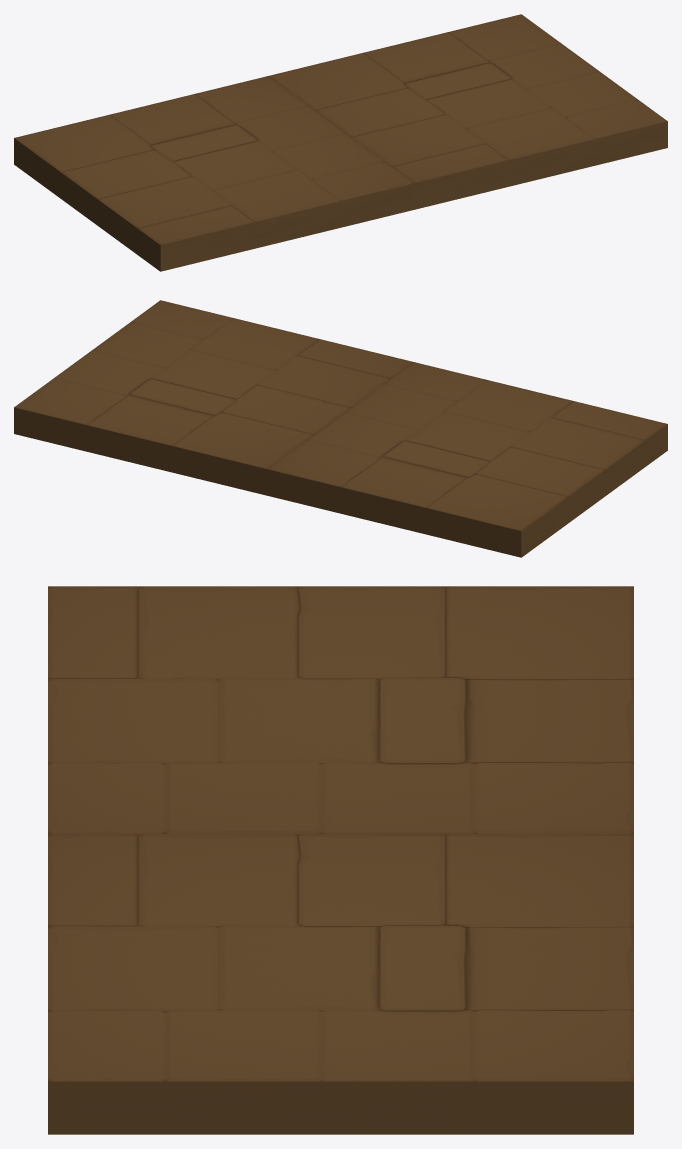
Rendered from Strada_2x1.glb.
3 views of the same model, one above another, from view 1: azimuth 30°, elevation 25°; view 2: azimuth 150°, elevation 25°; view 3: azimuth 270°, elevation 25° (orthographic). The views are drawn at different scales.
Visible parts, largest first — view 1: Cube.001; view 2: Cube.001; view 3: Cube.001.
Boxes of the visible parts, <box> form: Cube.001: <box>14,14,667,271</box>; Cube.001: <box>14,300,667,557</box>; Cube.001: <box>48,586,633,1134</box>.
Bounding box in the file's own units: 4 × 0.2 × 2.
1 material, 1 textured.
